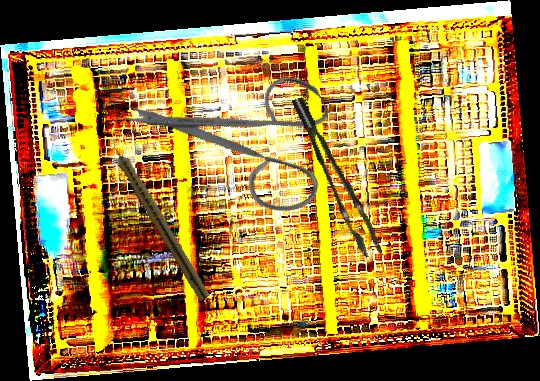Handpiece: (105, 136, 214, 302)
Iris Scissors: (118, 22, 363, 263)
Tissue Forceps: (291, 88, 383, 265)
